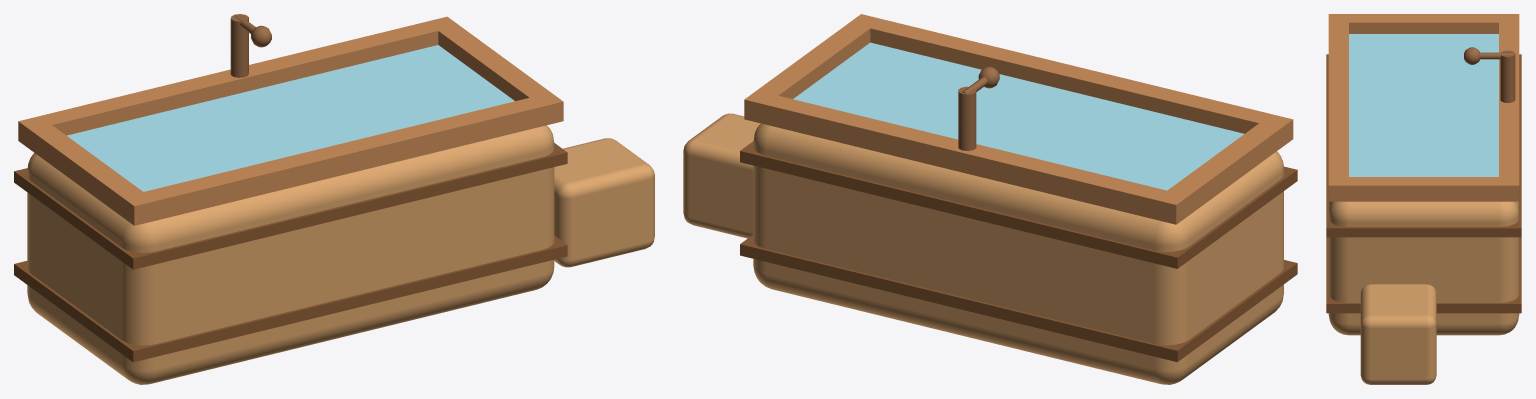
The model's file is bathtub-wood.glb.
3 views of the same model, side by side, from view 1: azimuth 30°, elevation 25°; view 2: azimuth 150°, elevation 25°; view 3: azimuth 270°, elevation 25° (orthographic). The views are drawn at different scales.
Bounding box in the file's own units: 2.04 × 0.905 × 0.77.
